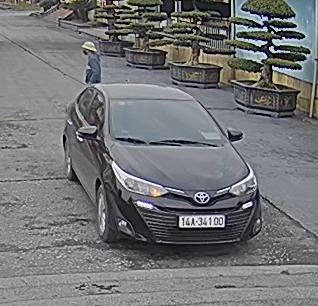vehicle plate: (176, 211, 227, 228)
